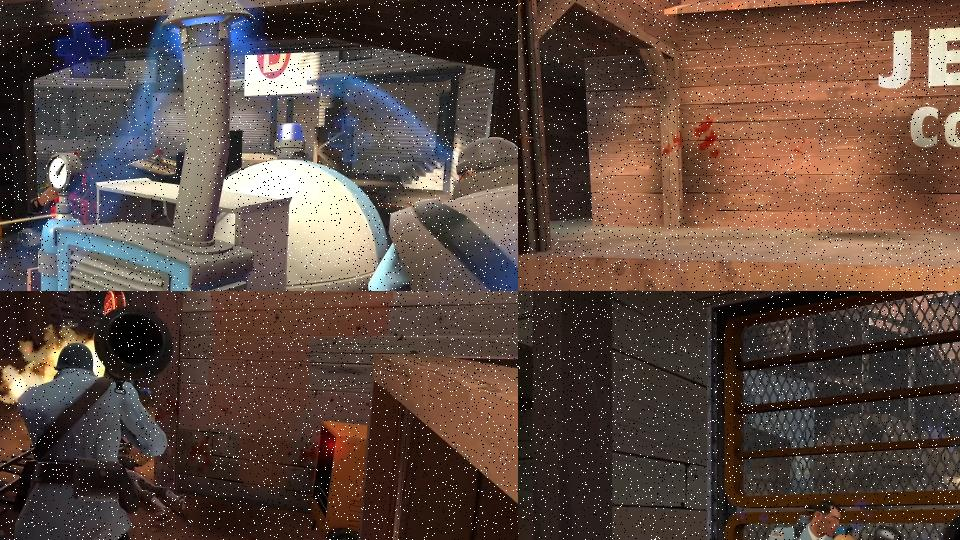Enemy: (0, 303, 181, 540), (373, 134, 518, 291), (0, 151, 94, 252), (115, 449, 191, 528)
